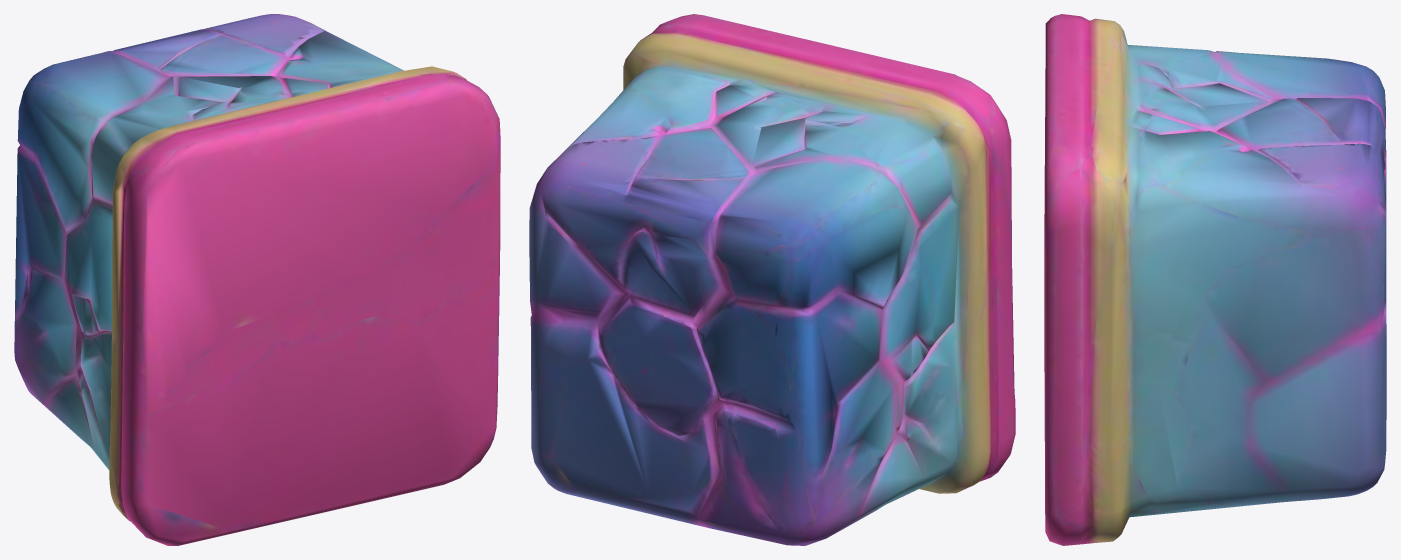
The picture shows the model from 3 angles, left to right: view 1: azimuth 30°, elevation 25°; view 2: azimuth 150°, elevation 25°; view 3: azimuth 270°, elevation 25°; orthographic projection.
Visible parts, largest first — view 1: material; view 2: material; view 3: material.
Part boxes in pixels (left/top/right/bottom): material: left=14, top=14, right=500, bottom=545; material: left=529, top=14, right=1015, bottom=545; material: left=1044, top=14, right=1386, bottom=545.
Bounding box in the file's own units: 0.9585 × 1 × 0.7781.
Materials: 1 (1 with a texture image).
